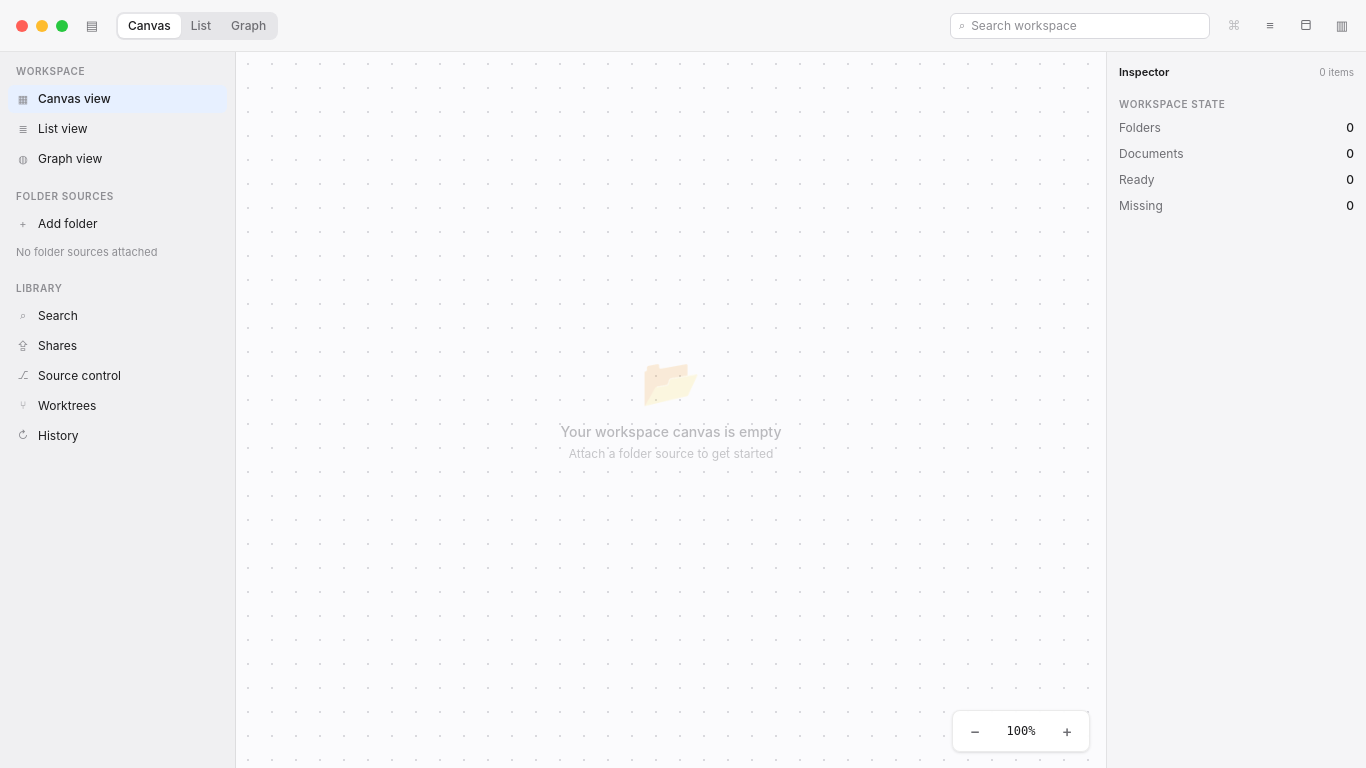
Test: App shell reachability › UI-03: the Worktrees sidebar row mounts screen 07 and reads GET worktrees
Click the button with test id "sidebar-worktrees".
click(118, 406)  # box [8,392,227,420]
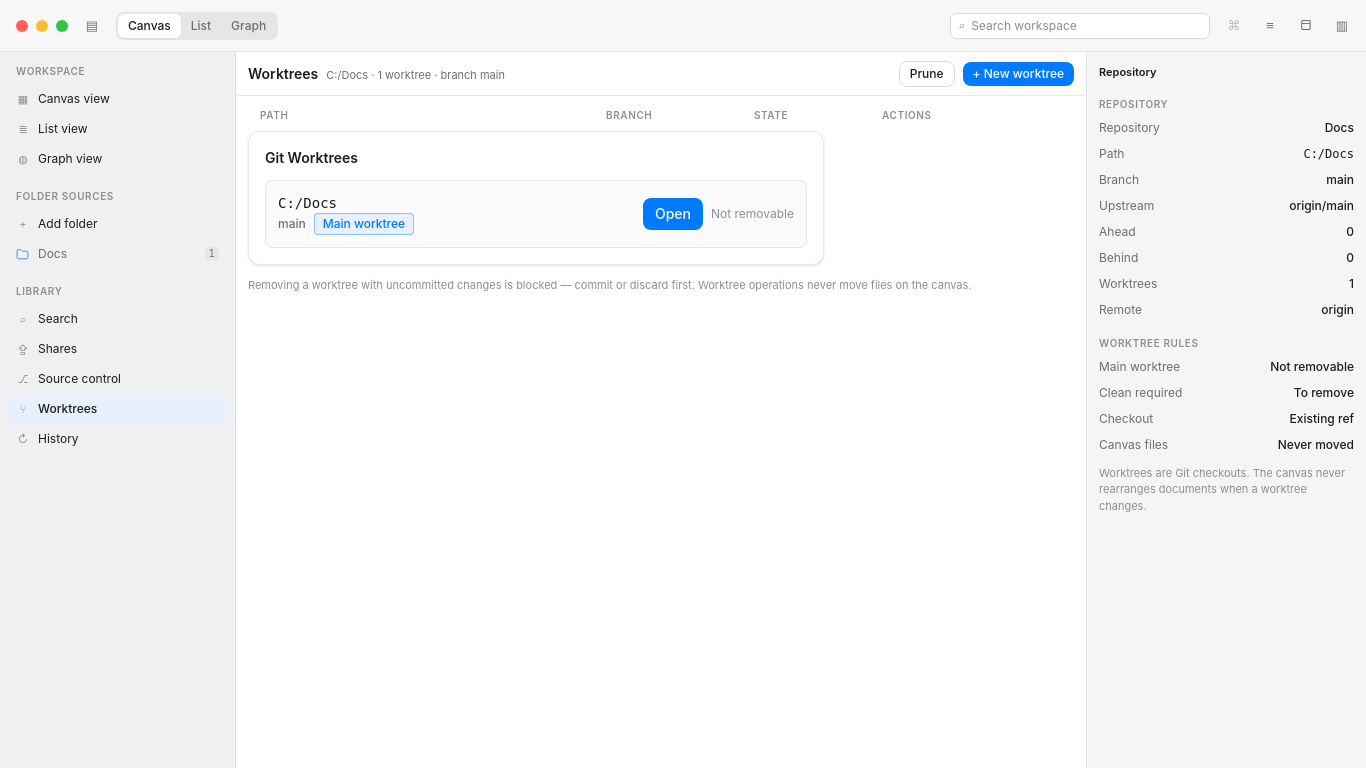
Result: the element with test id "worktrees-screen" is shown
